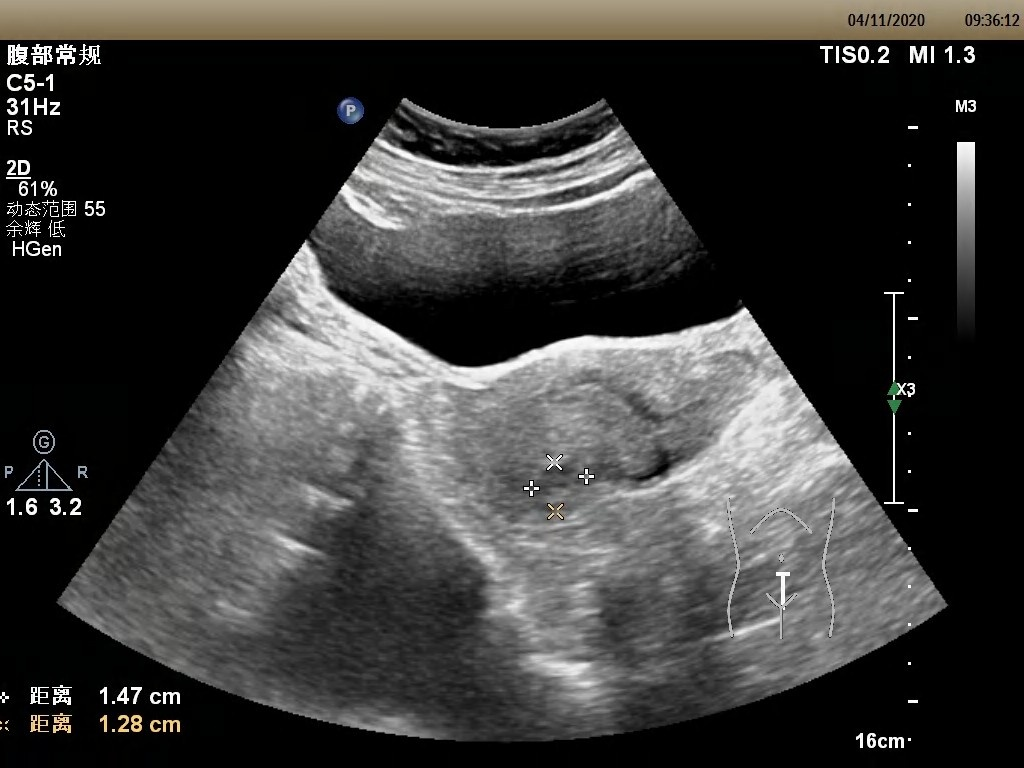肌瘤: (533, 461, 588, 511)
